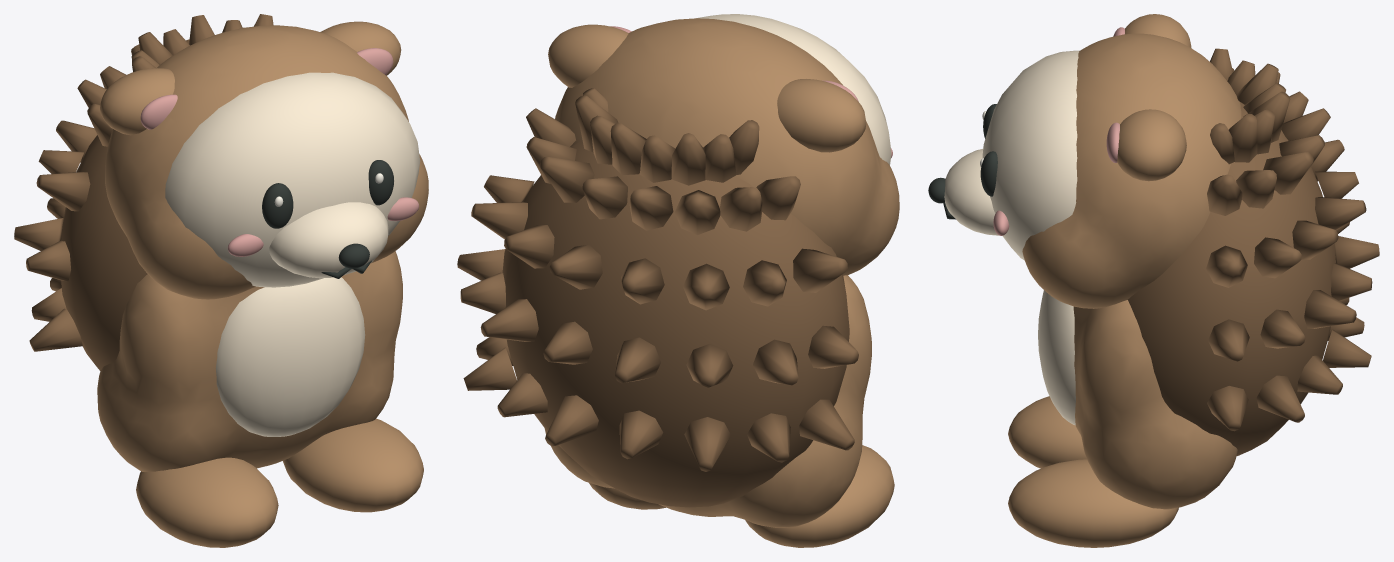
Rendered from hedgehog.glb.
3 renders of one model, left to right at view 1: azimuth 30°, elevation 25°; view 2: azimuth 150°, elevation 25°; view 3: azimuth 270°, elevation 25°, orthographic. The views are drawn at different scales.
Parts seen in each view (by area): view 1: LinkedHead_WI_#F5E7CF, LinkedHead_WI_#B08A64, rounded connected body, BreathingBody_WI_#826447, HedgehogCompanion_WI_#B08A64, soft cream belly, LinkedHead_WI_#343A36, LinkedHead_WI_#D5A09B; view 2: BreathingBody_WI_#826447, LinkedHead_WI_#B08A64, rounded connected body, HedgehogCompanion_WI_#B08A64, LinkedHead_WI_#F5E7CF; view 3: BreathingBody_WI_#826447, LinkedHead_WI_#B08A64, rounded connected body, LinkedHead_WI_#F5E7CF, HedgehogCompanion_WI_#B08A64, soft cream belly, LinkedHead_WI_#343A36, LinkedHead_WI_#D5A09B.
Part boxes in pixels (box(x1,y1,x2,y2)): LinkedHead_WI_#F5E7CF: box(165, 72, 420, 287); LinkedHead_WI_#B08A64: box(100, 21, 428, 299); rounded connected body: box(97, 251, 402, 471); BreathingBody_WI_#826447: box(14, 14, 273, 370); HedgehogCompanion_WI_#B08A64: box(136, 418, 423, 547); soft cream belly: box(215, 277, 365, 436); LinkedHead_WI_#343A36: box(262, 160, 393, 278); LinkedHead_WI_#D5A09B: box(140, 48, 419, 256); BreathingBody_WI_#826447: box(457, 88, 858, 507); LinkedHead_WI_#B08A64: box(548, 18, 899, 275); rounded connected body: box(544, 275, 871, 527); HedgehogCompanion_WI_#B08A64: box(589, 445, 894, 547); LinkedHead_WI_#F5E7CF: box(696, 14, 891, 165); BreathingBody_WI_#826447: box(1128, 48, 1379, 456); LinkedHead_WI_#B08A64: box(1022, 14, 1241, 308); rounded connected body: box(1073, 300, 1237, 509); LinkedHead_WI_#F5E7CF: box(944, 50, 1079, 260); HedgehogCompanion_WI_#B08A64: box(1008, 396, 1178, 547); soft cream belly: box(1038, 290, 1075, 425); LinkedHead_WI_#343A36: box(928, 104, 997, 219); LinkedHead_WI_#D5A09B: box(993, 27, 1124, 235).
Bounding box in the file's own units: 1.11 × 1.34 × 1.21.
